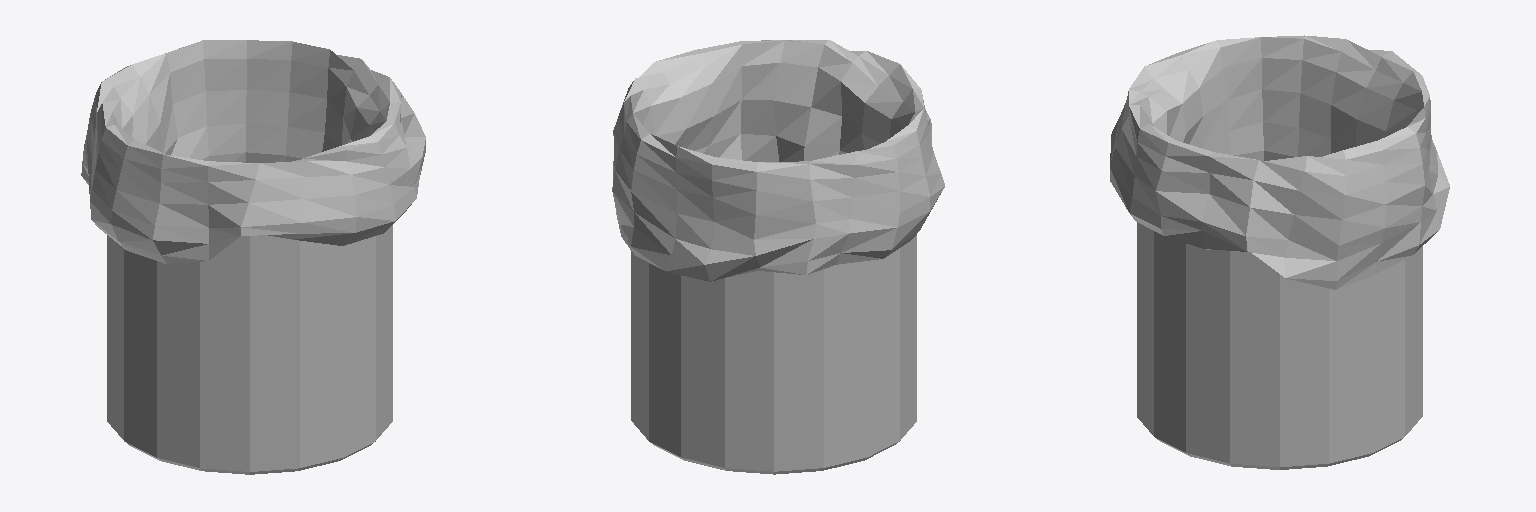
Rendered from Lixeira.obj.
3 views of the same model, side by side, from view 1: azimuth 30°, elevation 25°; view 2: azimuth 150°, elevation 25°; view 3: azimuth 270°, elevation 25° (orthographic).
Parts seen in each view (by area): view 1: Cylinder181__0; view 2: Cylinder181__0; view 3: Cylinder181__0.
Boxes of the visible parts, <box> form: Cylinder181__0: <box>81,40,425,474</box>; Cylinder181__0: <box>612,40,944,474</box>; Cylinder181__0: <box>1110,35,1449,469</box>.
Bounding box in the file's own units: 30.55 × 30.1 × 29.33.